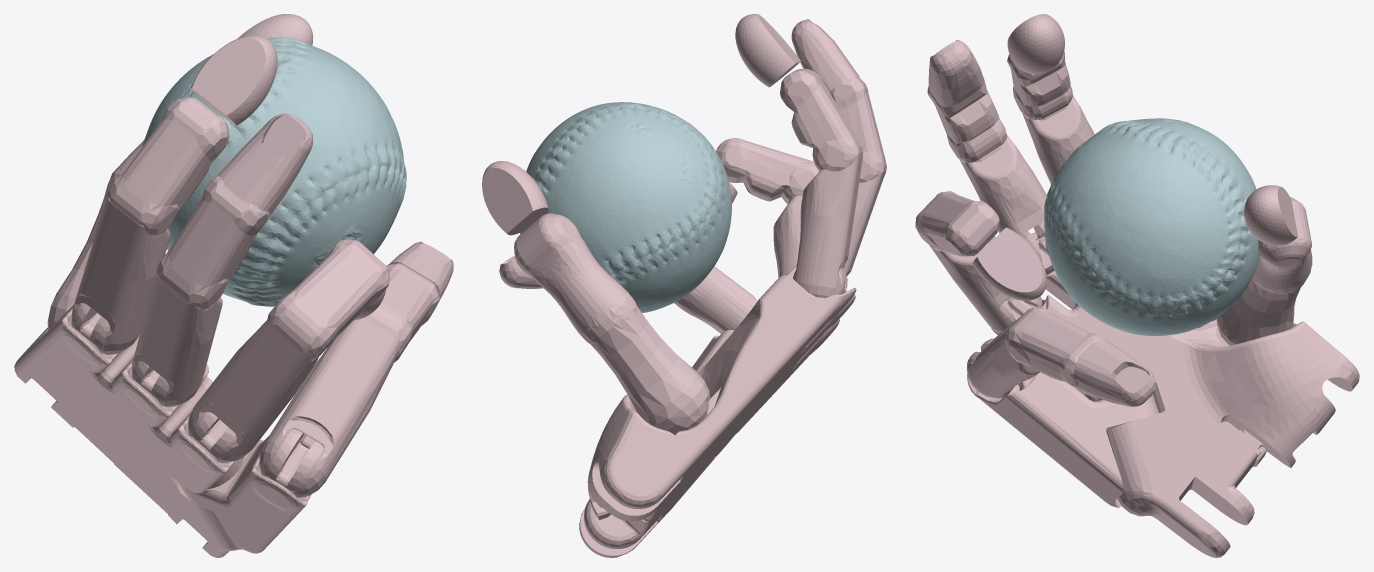
The model's file is grasp_4.glb.
3 renders of one model, left to right at view 1: azimuth 30°, elevation 25°; view 2: azimuth 150°, elevation 25°; view 3: azimuth 270°, elevation 25°, orthographic. The views are drawn at different scales.
Parts seen in each view (by area): view 1: world; view 2: world; view 3: world.
Part boxes in pixels (x1,y1,x2,y2): world: (14,14,453,557); world: (482,14,886,557); world: (915,14,1359,557).
Bounding box in the file's own units: 0.1304 × 0.1862 × 0.1471.
